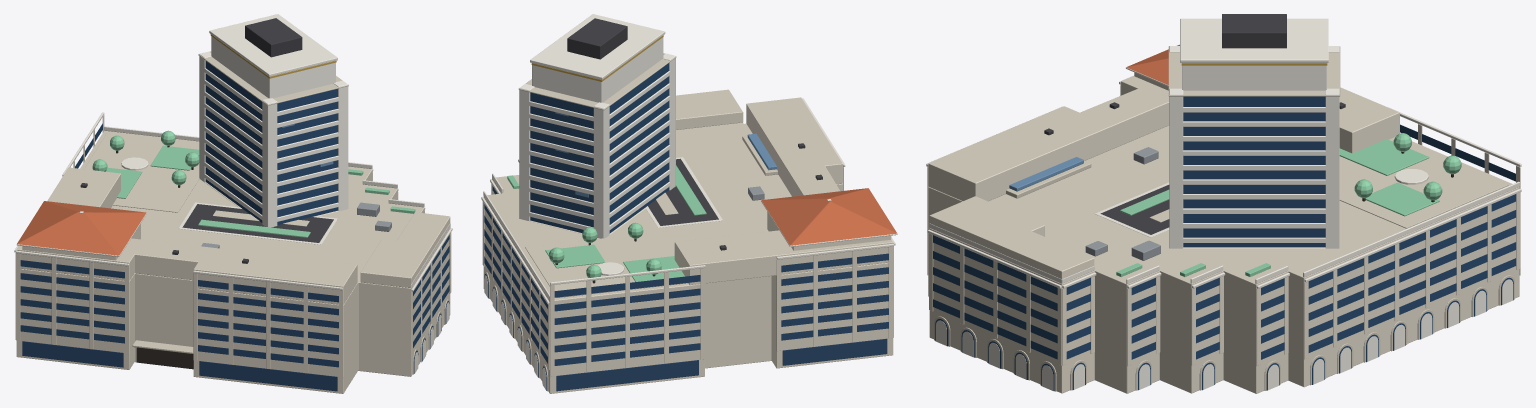
File: 345-spear.glb
3 views of the same model, side by side, from view 1: azimuth 30°, elevation 25°; view 2: azimuth 150°, elevation 25°; view 3: azimuth 270°, elevation 25° (orthographic). The views are drawn at different scales.
Parts seen in each view (by area): view 1: body, upper_bar, twr_core, pav_hip, garden_deck, se_wing, twr_par, twr_set, store_4, court_panel, twr_pier_-1_-1, twr_mech (+46 smaller); view 2: body, upper_bar, twr_core, pav_hip, garden_deck, twr_par, twr_set, store_17, se_wing, twr_pier_-1_1, twr_mech, store_21 (+49 smaller); view 3: body, upper_bar, twr_core, se_wing, garden_deck, twr_par, twr_set, twr_mech, twr_pier_1_1, twr_pier_1_-1, twr_roof, garden_lawn1 (+31 smaller).
Boxes of the visible parts, x1,y1,x2,y2 form: body: (16,130,450,393); upper_bar: (16,167,357,304); twr_core: (205,61,337,225); pav_hip: (17,201,146,255); garden_deck: (84,133,199,212); se_wing: (360,212,450,287); twr_par: (209,14,337,76); twr_set: (211,36,335,98); store_4: (199,361,337,391); court_panel: (182,204,333,242); twr_pier_-1_-1: (262,98,277,227); twr_mech: (245,18,302,57); body: (483,122,893,393); upper_bar: (674,97,893,284); twr_core: (530,63,668,233); pav_hip: (761,188,897,245); garden_deck: (525,228,695,297); twr_par: (530,14,665,79); twr_set: (532,37,663,102); store_17: (556,360,698,391); se_wing: (676,89,743,129); twr_pier_-1_1: (593,102,609,238); twr_mech: (567,18,627,59); store_21: (782,338,887,365); body: (928,125,1519,393); upper_bar: (928,76,1399,201); twr_core: (1183,96,1325,247); se_wing: (929,196,1094,278); garden_deck: (1339,137,1508,228); twr_par: (1180,18,1328,62); twr_set: (1182,63,1326,90); twr_mech: (1222,14,1286,48); twr_pier_1_1: (1325,88,1339,248); twr_pier_1_-1: (1169,88,1183,248); twr_roof: (1168,46,1340,96); garden_lawn1: (1339,139,1429,175).
Size of the model in its own units: 106 by 68.5 by 119.
